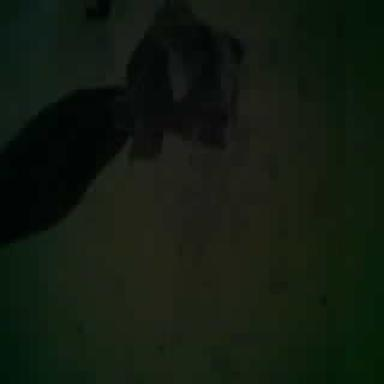paper: (127, 2, 244, 142)
